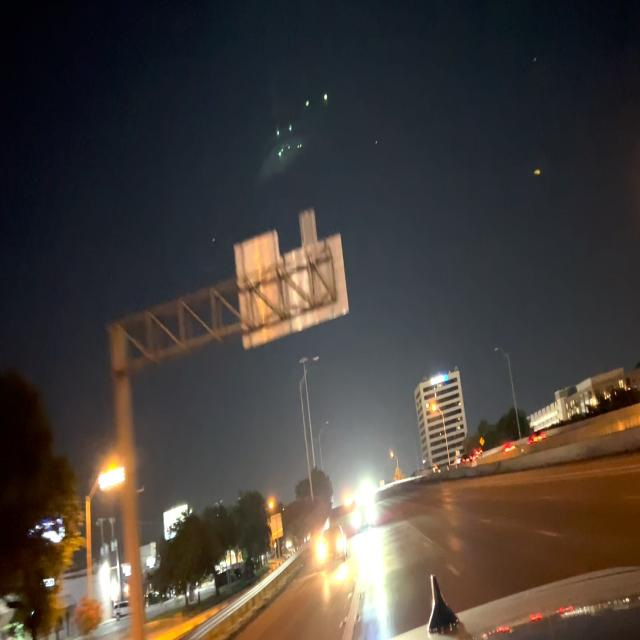back-of-sign: (236, 257, 351, 345), (235, 228, 283, 264), (299, 211, 317, 242)
